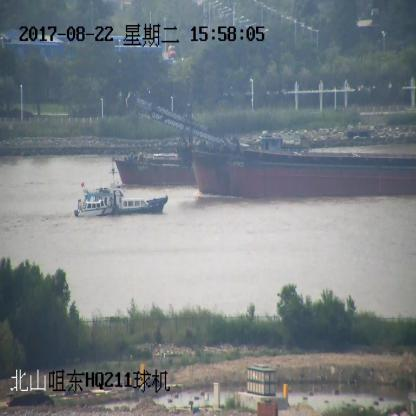Fishing Boat: (73, 182, 167, 218)
